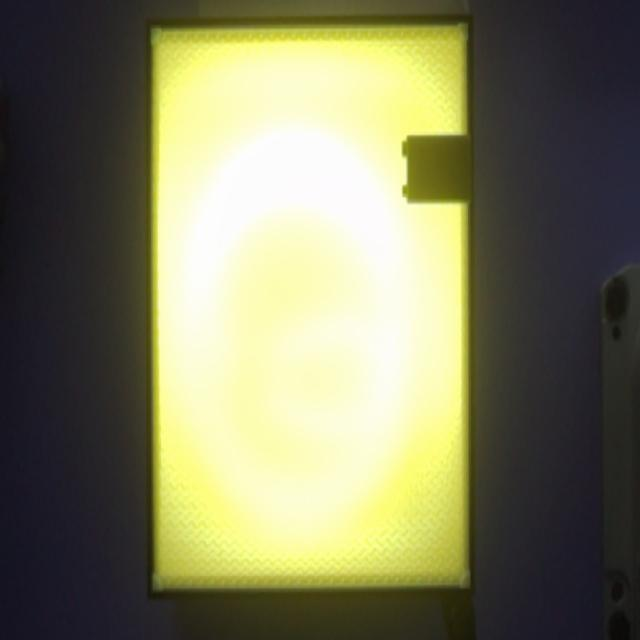bateria: (402, 134, 470, 205)
mesa: (146, 16, 476, 600)
